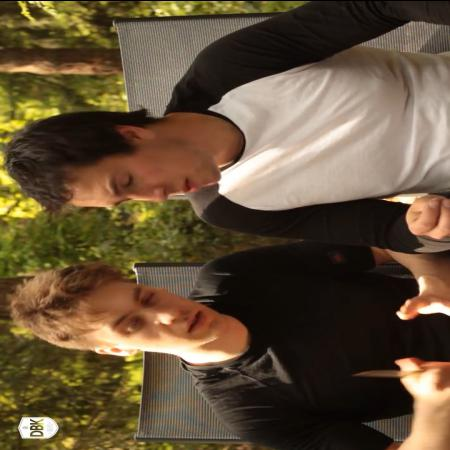long weapon: (340, 352, 450, 393)
